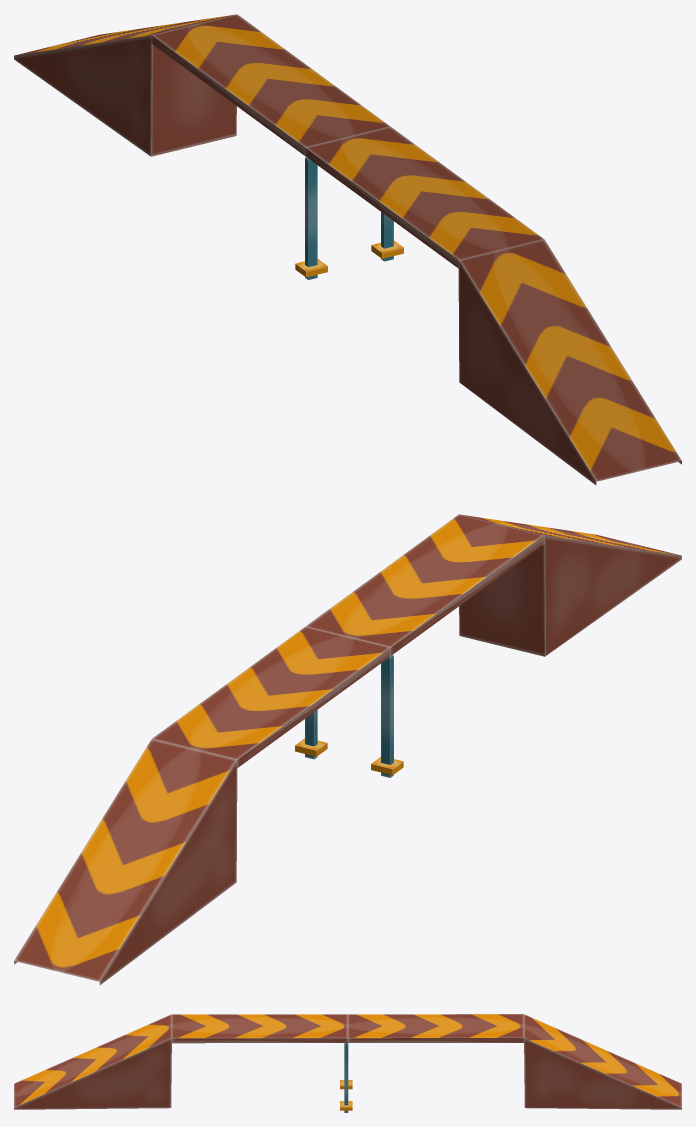
Rendered from ramp_01.FBX.
The picture shows the model from 3 angles, top to bottom: view 1: azimuth 30°, elevation 25°; view 2: azimuth 150°, elevation 25°; view 3: azimuth 270°, elevation 25°; orthographic projection. The views are drawn at different scales.
Visible parts, largest first — view 1: ramp002; view 2: ramp002; view 3: ramp002.
Part boxes in pixels (bbox=[...]): ramp002: bbox=[14, 14, 681, 485]; ramp002: bbox=[14, 514, 681, 985]; ramp002: bbox=[14, 1014, 681, 1112].
Bounding box in the file's own units: 163 × 208 × 1684.
